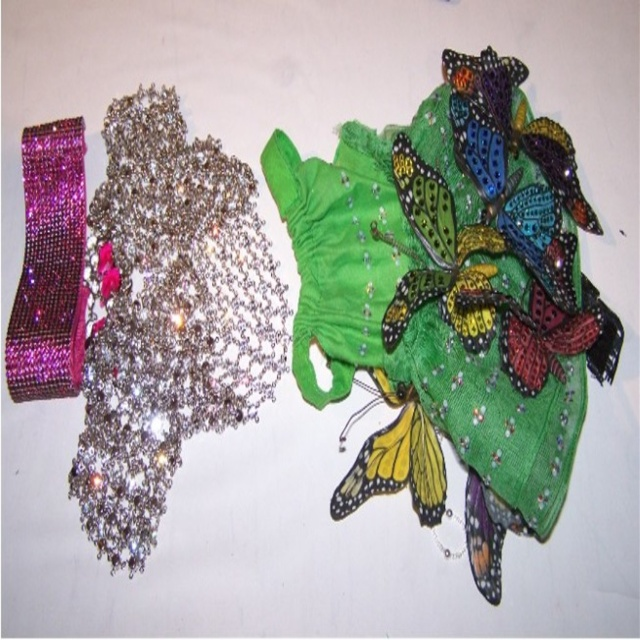Butterfly: (326, 45, 606, 607)
